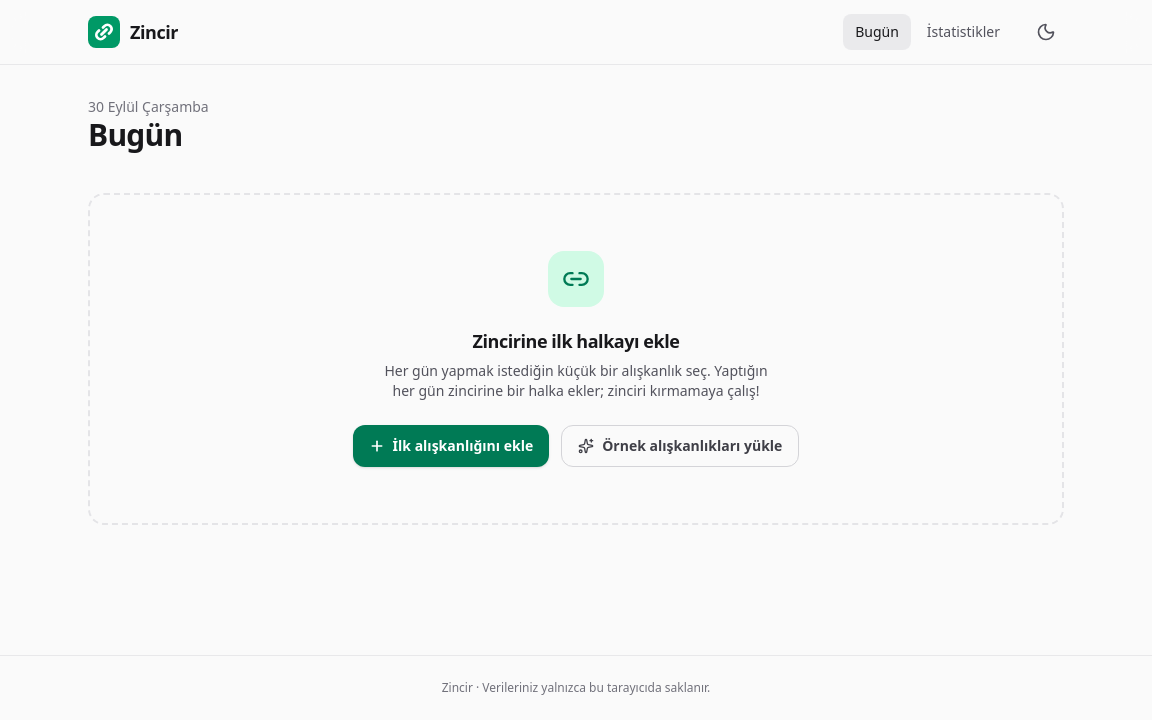
Yönergedeki dört işlem (CRUD) › Ekle: boş ad reddedilir; geçerli alışkanlık eklenir, listelenir ve kaydedilir
Click the button "İlk alışkanlığını ekle" at (451, 446), box [353, 425, 549, 467]
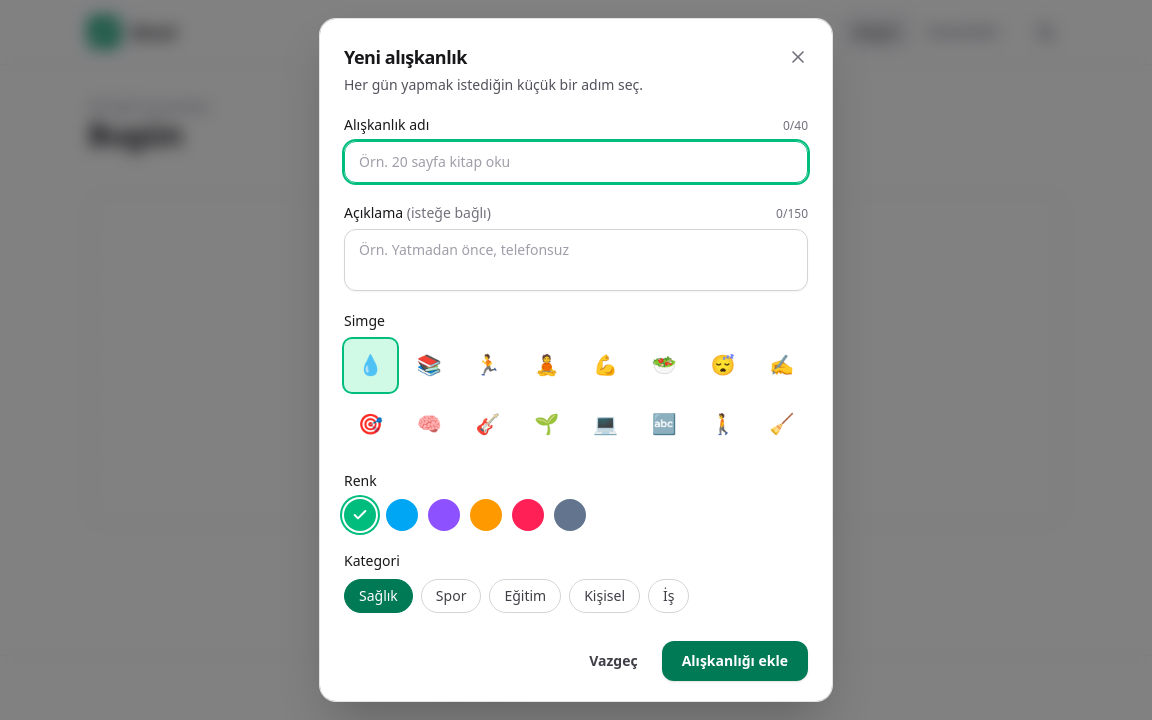
// Boş gönderim → hata mesajı, odak ad alanında
Click the button "Alışkanlığı ekle" at (735, 660), box [662, 640, 808, 680]
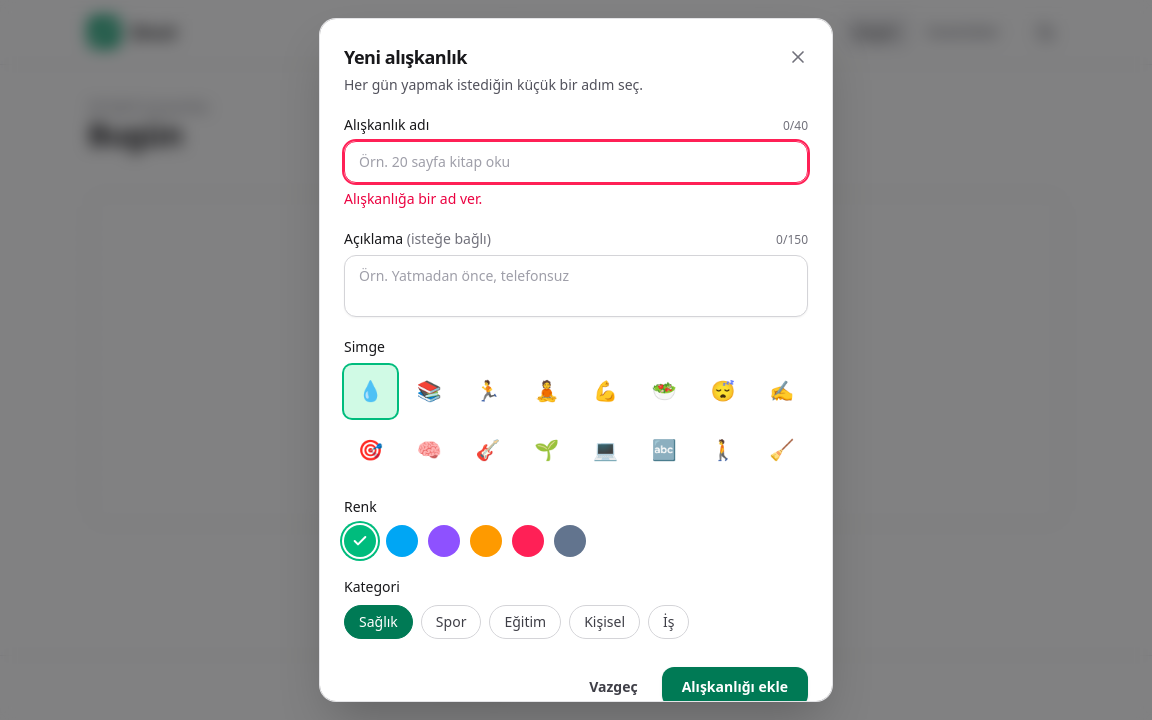
Now the text "Alışkanlığa bir ad ver." is shown, box [344, 189, 482, 208]
// Geçerli form
Type "Gitar pratiği" into the field labelled "Alışkanlık adı" at (576, 162), box [344, 141, 808, 183]
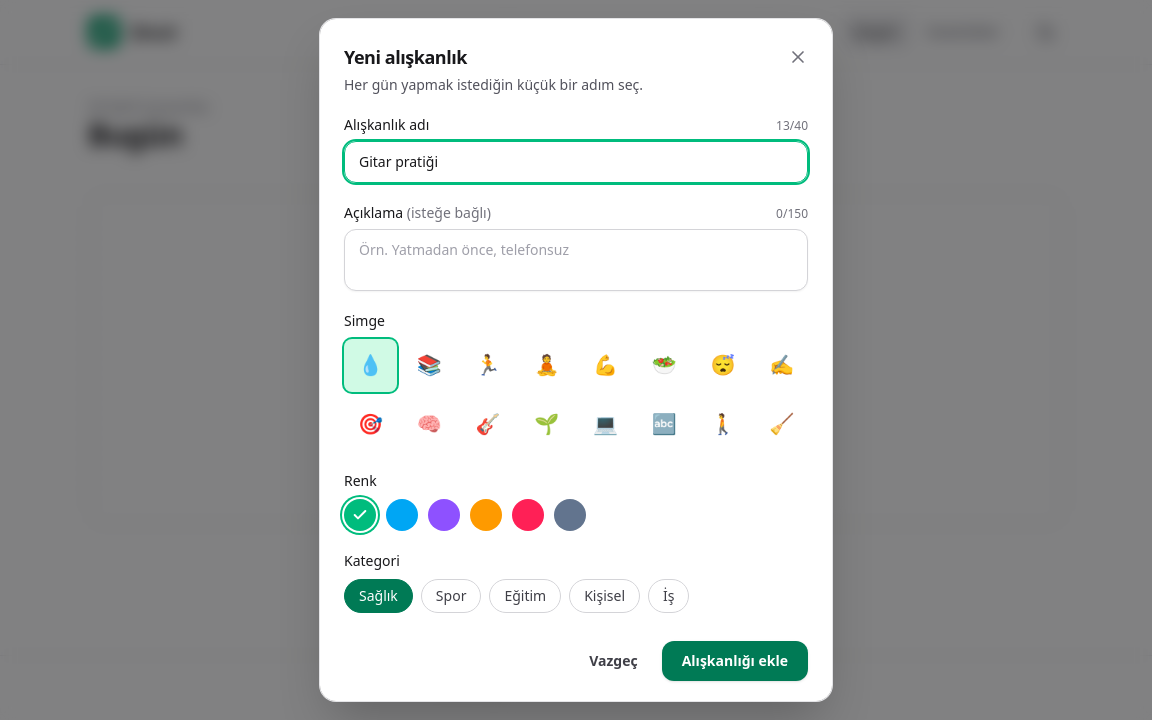
Click the radio button named "Gitar" at (488, 424), box [462, 398, 514, 451]
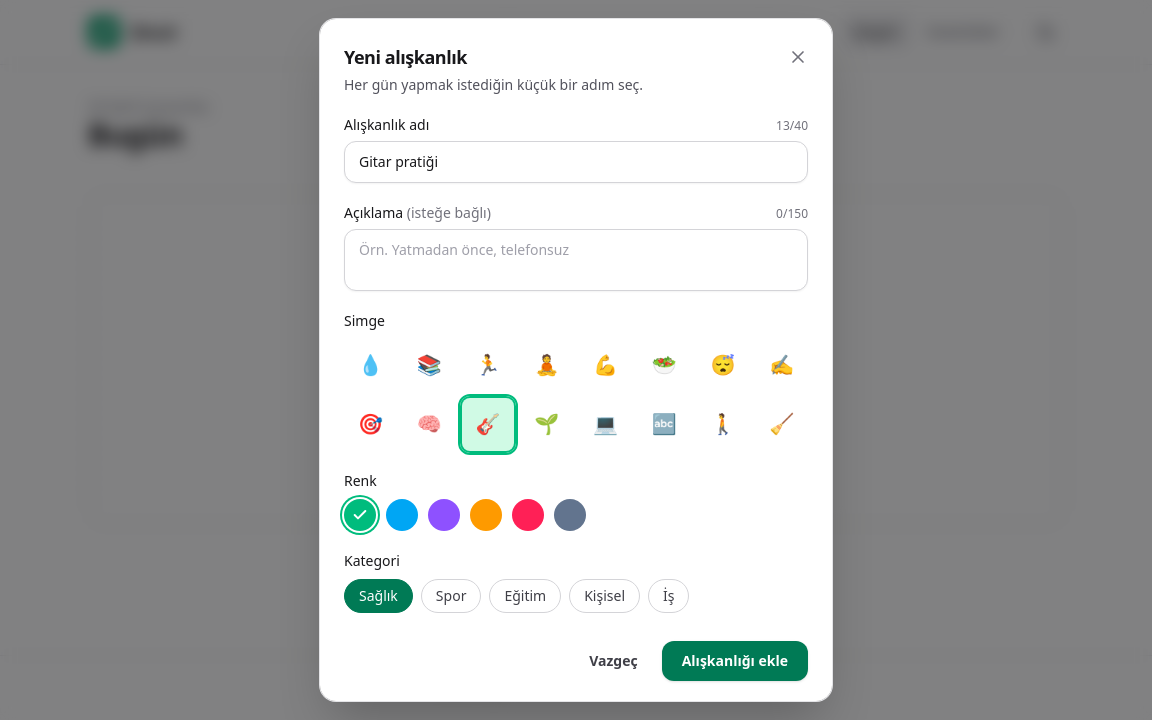
Click the 7th radio button labelled "Kişisel" at (605, 596), box [569, 578, 640, 612]
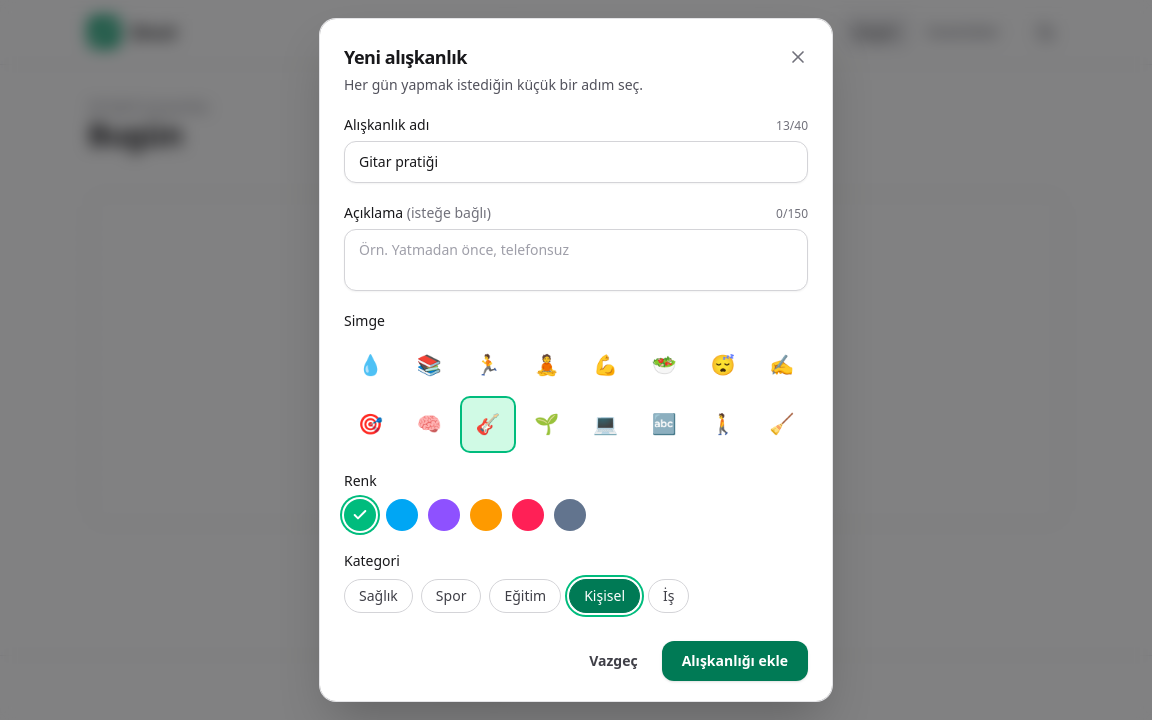
Click the button "Alışkanlığı ekle" at (735, 660), box [662, 640, 808, 680]
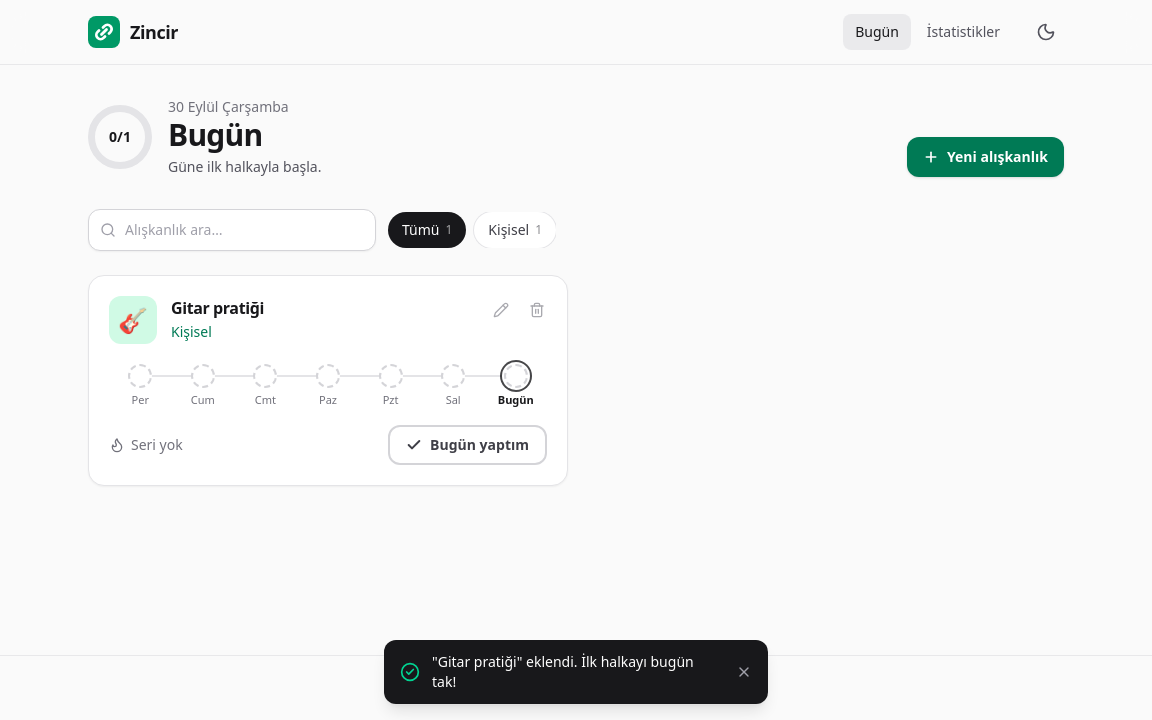
Now the dialog is gone
Now the message shows "\"Gitar pratiği\" eklendi", box [432, 652, 694, 691]
